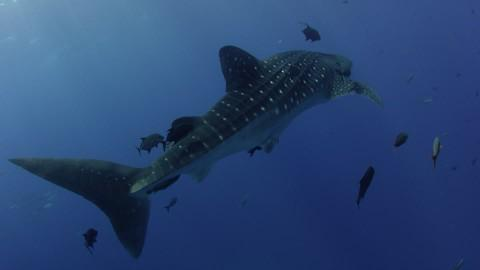Shark -Selachimorpha-: (6, 36, 381, 256)
